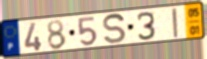3: (136, 10, 157, 42)
4: (23, 20, 44, 52)
5: (77, 14, 100, 47)
8: (46, 18, 68, 50)
I: (170, 7, 180, 40)
S: (102, 13, 127, 45)
